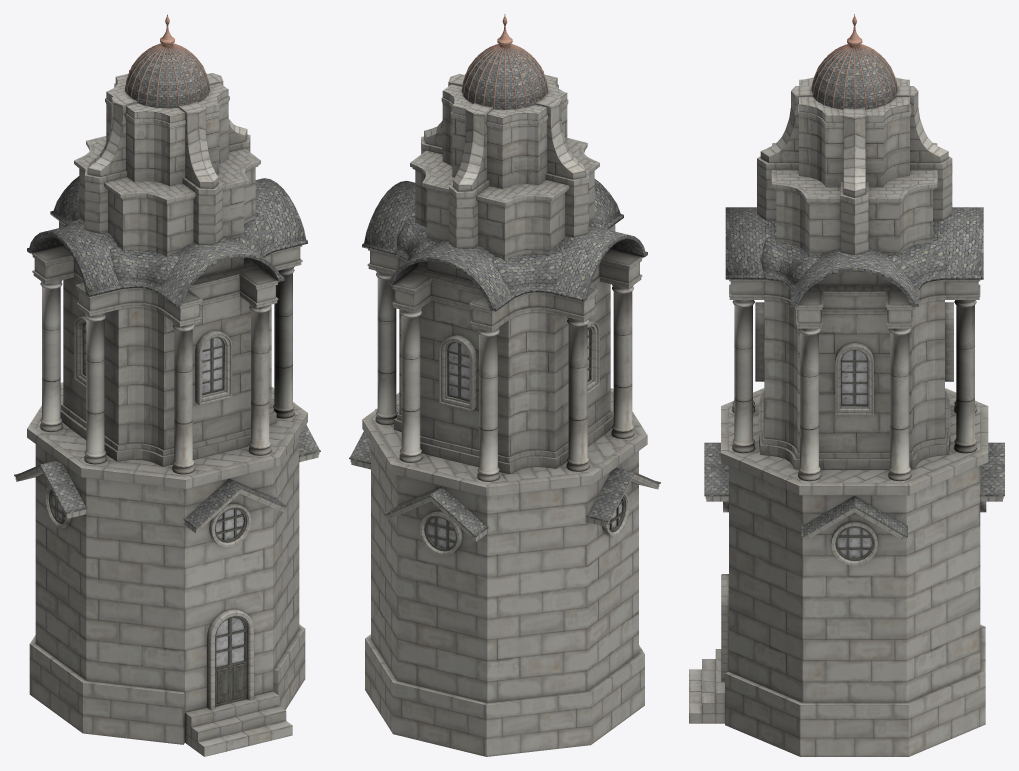
File: Tower.obj
3 views of the same model, side by side, from view 1: azimuth 30°, elevation 25°; view 2: azimuth 150°, elevation 25°; view 3: azimuth 270°, elevation 25° (orthographic). The views are drawn at different scales.
Visible parts, largest first — view 1: Build; view 2: Build; view 3: Build.
Boxes of the visible parts, x1,y1,x2,y2 form: Build: (14, 14, 320, 756); Build: (349, 14, 660, 756); Build: (689, 14, 1004, 756).
Bounding box in the file's own units: 26.63 × 67.26 × 27.99.
